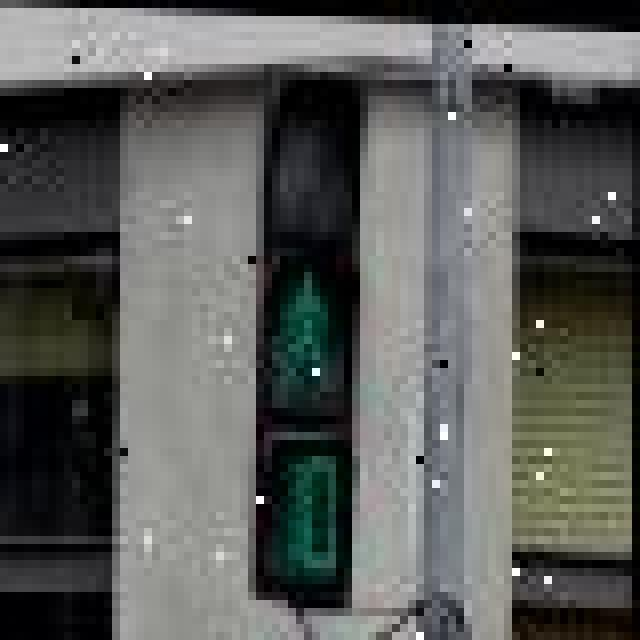greenlight: (232, 64, 368, 432)
